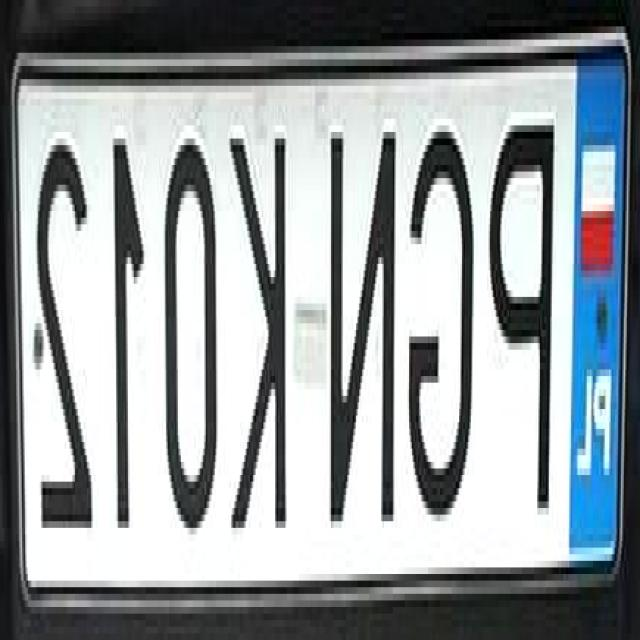pl_license_plate: (16, 33, 630, 581)
